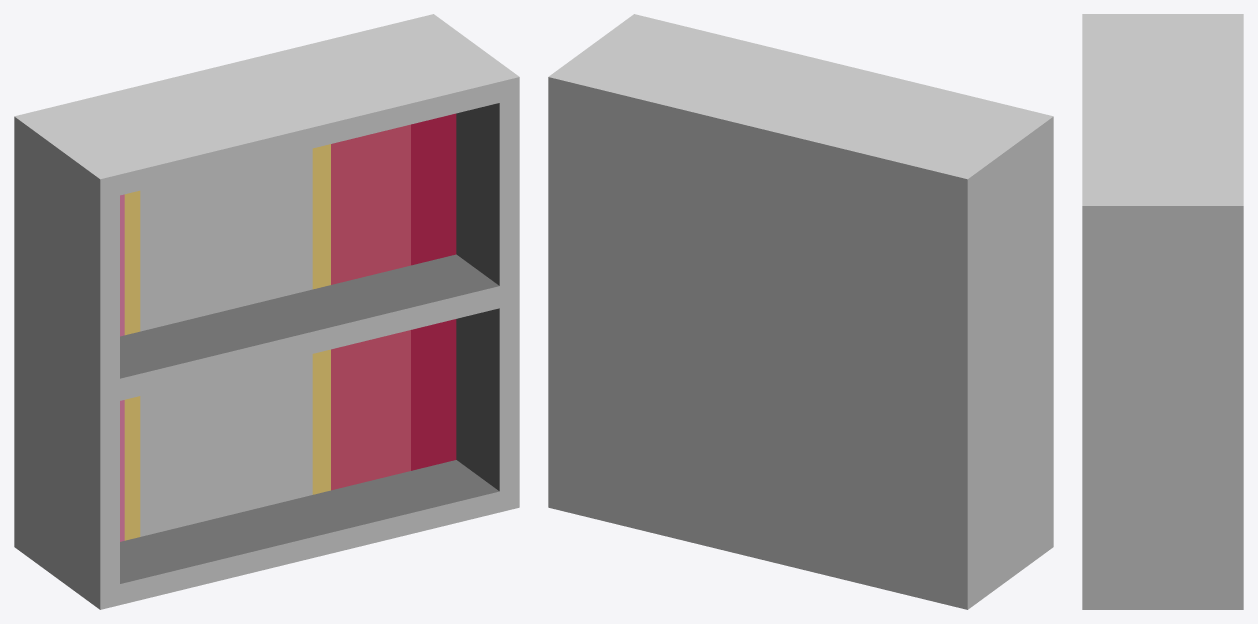
The model's file is Sunban.fbx.
The picture shows the model from 3 angles, left to right: view 1: azimuth 30°, elevation 25°; view 2: azimuth 150°, elevation 25°; view 3: azimuth 270°, elevation 25°; orthographic projection. The views are drawn at different scales.
Parts seen in each view (by area): view 1: Sunban; view 2: Sunban; view 3: Sunban.
Boxes of the visible parts, box(x1,y1,x2,y2) form: Sunban: box(14, 14, 519, 609); Sunban: box(548, 14, 1053, 609); Sunban: box(1082, 14, 1243, 609).
Size of the model in its own units: 0.3819 by 0.3747 by 0.1357.
